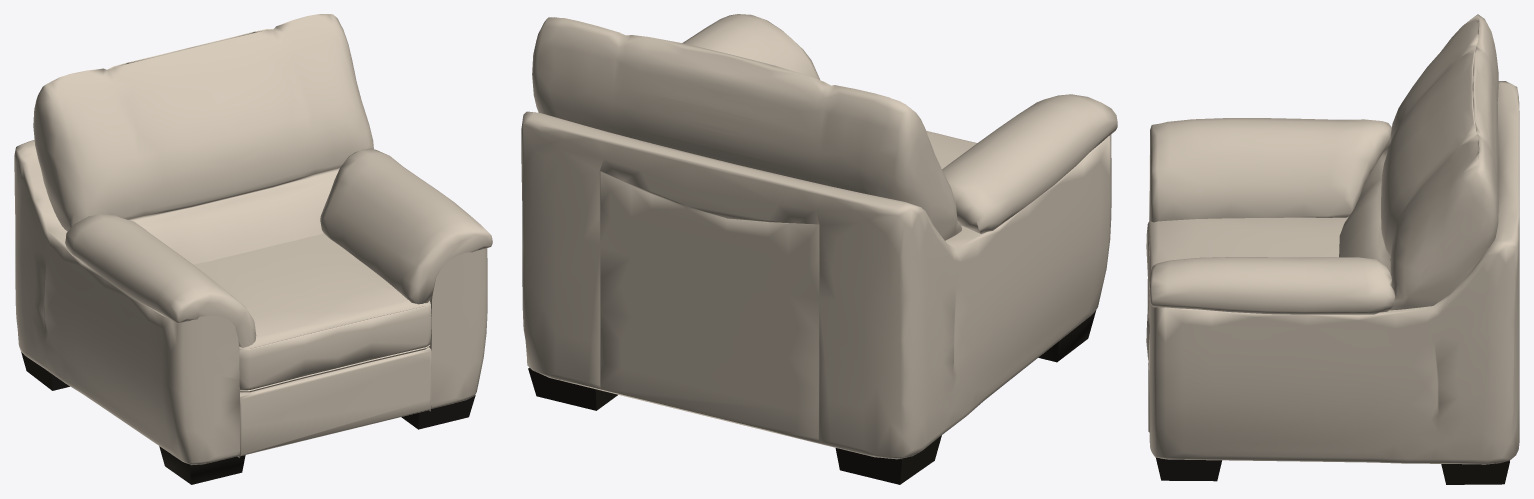
Rendered from singlesofa.obj.
3 renders of one model, left to right at view 1: azimuth 30°, elevation 25°; view 2: azimuth 150°, elevation 25°; view 3: azimuth 270°, elevation 25°, orthographic. The views are drawn at different scales.
Parts seen in each view (by area): view 1: Mesh5 Group5 Model, Mesh9 Group11 Group10 Model, Mesh10 Group12 Group10 Model, Mesh12 Group14 Model, Mesh6 Group6 Model, Mesh7 Group8 Group7 Model, Mesh8 Group9 Group7 Model, Mesh11 Group13 Model, Mesh4 Group4 Model, Mesh2 Group2 Model, Mesh3 Group3 Model; view 2: Mesh5 Group5 Model, Mesh9 Group11 Group10 Model, Mesh10 Group12 Group10 Model, Mesh11 Group13 Model, Mesh12 Group14 Model, Mesh3 Group3 Model, Mesh1 Group1 Model, Mesh8 Group9 Group7 Model, Mesh4 Group4 Model; view 3: Mesh5 Group5 Model, Mesh11 Group13 Model, Mesh10 Group12 Group10 Model, Mesh12 Group14 Model, Mesh9 Group11 Group10 Model, Mesh8 Group9 Group7 Model, Mesh1 Group1 Model, Mesh2 Group2 Model.
Part boxes in pixels (x1,y1,x2,y2): Mesh5 Group5 Model: (14, 139, 487, 465); Mesh9 Group11 Group10 Model: (33, 47, 253, 264); Mesh10 Group12 Group10 Model: (192, 14, 373, 250); Mesh12 Group14 Model: (320, 148, 492, 304); Mesh6 Group6 Model: (240, 347, 431, 456); Mesh7 Group8 Group7 Model: (251, 233, 431, 370); Mesh8 Group9 Group7 Model: (193, 251, 338, 392); Mesh11 Group13 Model: (65, 214, 256, 347); Mesh4 Group4 Model: (159, 446, 245, 484); Mesh2 Group2 Model: (401, 395, 475, 429); Mesh3 Group3 Model: (21, 352, 69, 390); Mesh5 Group5 Model: (521, 111, 1111, 459); Mesh9 Group11 Group10 Model: (715, 54, 961, 240); Mesh10 Group12 Group10 Model: (532, 17, 729, 159); Mesh11 Group13 Model: (942, 94, 1117, 233); Mesh12 Group14 Model: (682, 14, 819, 79); Mesh3 Group3 Model: (835, 435, 941, 484); Mesh1 Group1 Model: (528, 367, 617, 410); Mesh8 Group9 Group7 Model: (926, 131, 977, 169); Mesh4 Group4 Model: (1038, 310, 1096, 362); Mesh5 Group5 Model: (1148, 81, 1519, 464); Mesh11 Group13 Model: (1150, 118, 1391, 222); Mesh10 Group12 Group10 Model: (1340, 86, 1498, 310); Mesh12 Group14 Model: (1150, 257, 1394, 314); Mesh9 Group11 Group10 Model: (1339, 14, 1498, 257); Mesh8 Group9 Group7 Model: (1146, 216, 1348, 289); Mesh1 Group1 Model: (1441, 460, 1509, 484); Mesh2 Group2 Model: (1156, 457, 1221, 481).
Size of the model in its own units: 40.55 by 35.43 by 37.01.
